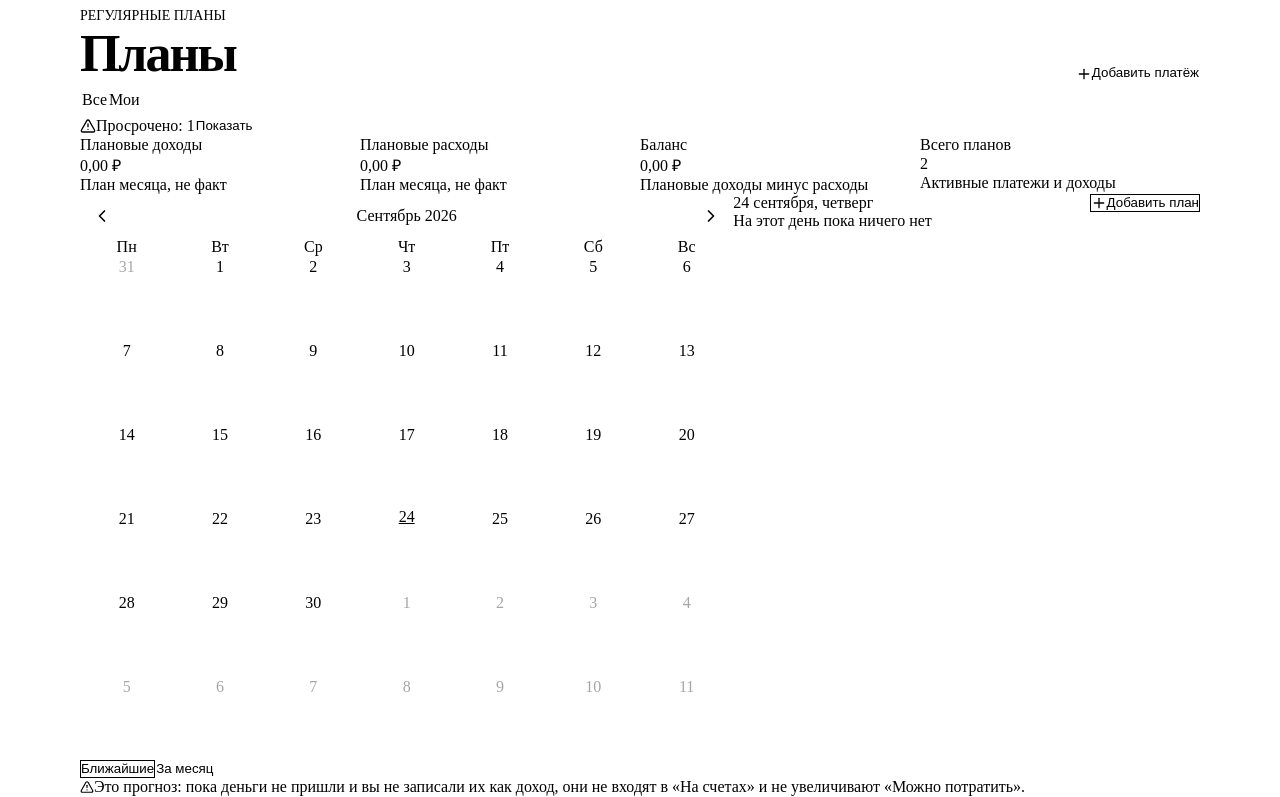
Test: plans page › reads the confirmed facts of the clicked day and shows them in the panel
This screenshot has width=1280, height=797.
Click the button with test id "calendar-day-2026-09-10" at (407, 382), box [360,340,453,424]
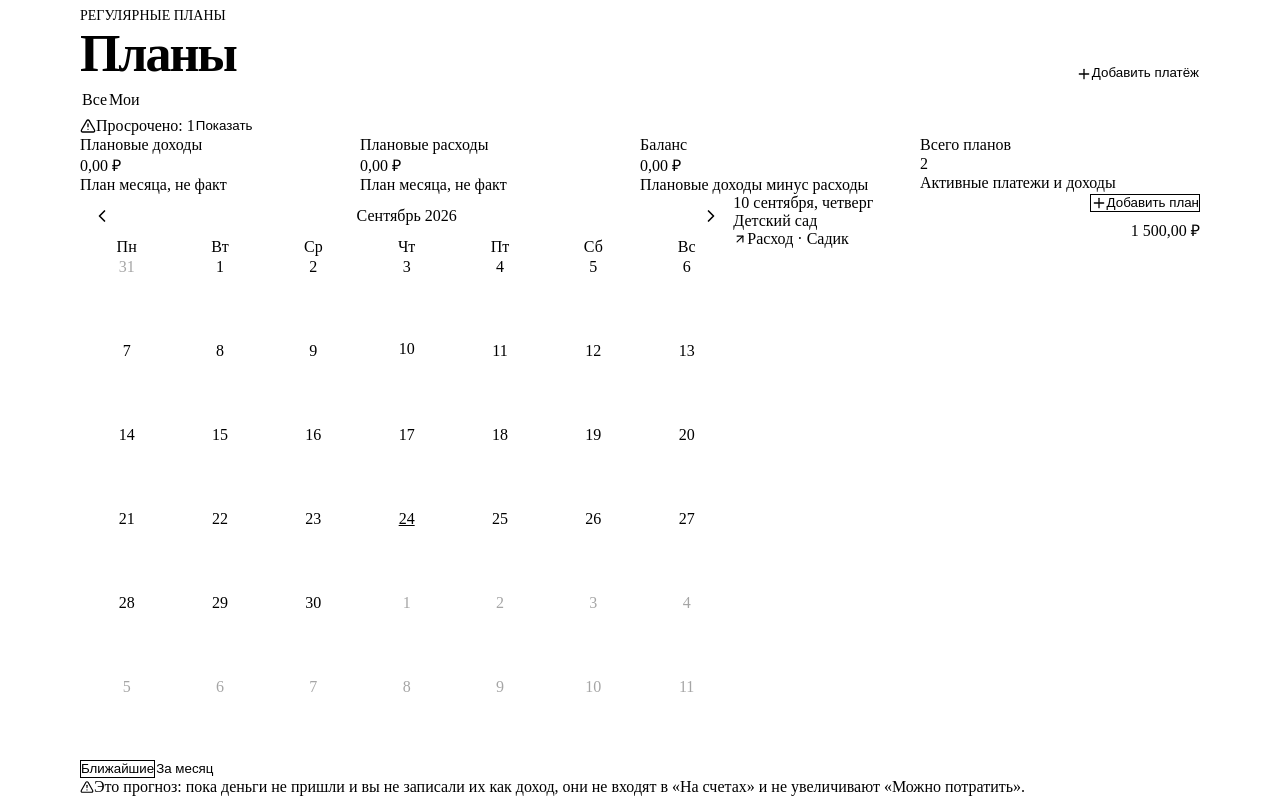
Result: the list item with test id "day-fact-tx-fact" shows "Садик" at [797,230,849,247]
